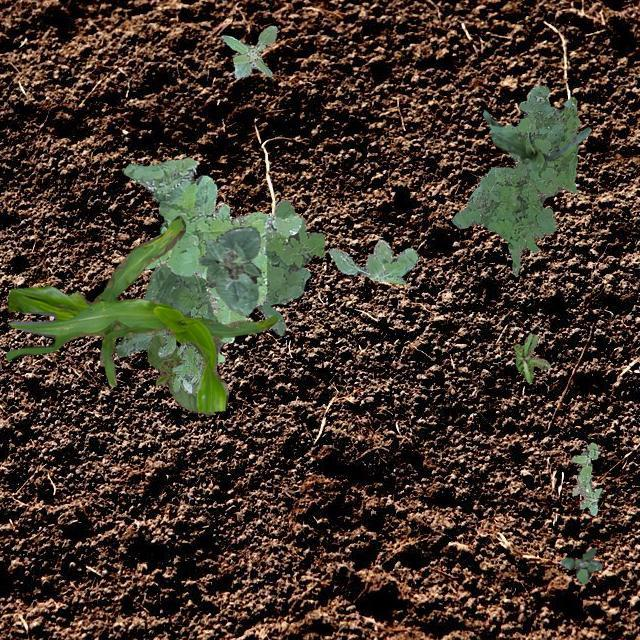crop: (6, 214, 278, 410), (482, 110, 590, 172), (198, 224, 260, 314), (146, 334, 212, 416)
weed: (122, 156, 300, 342), (115, 198, 324, 356), (452, 84, 578, 276), (146, 302, 223, 392), (328, 238, 417, 282), (220, 24, 276, 76), (570, 442, 602, 514), (512, 332, 548, 382), (560, 548, 602, 582)
